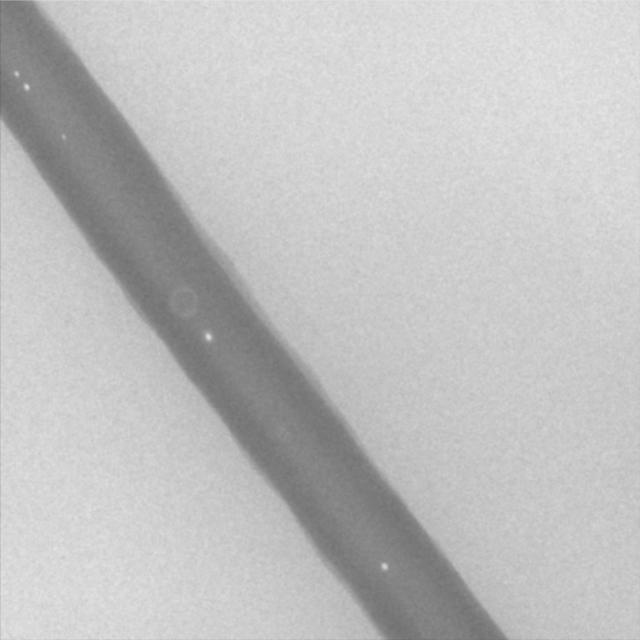air hole: (378, 560, 389, 574), (204, 329, 212, 342), (11, 68, 19, 78), (22, 82, 30, 91), (60, 131, 67, 140)
hollow bead: (167, 286, 200, 318)
